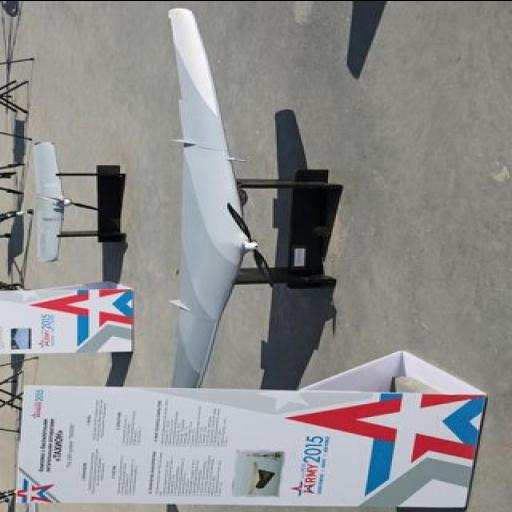uav: (157, 6, 275, 401)
